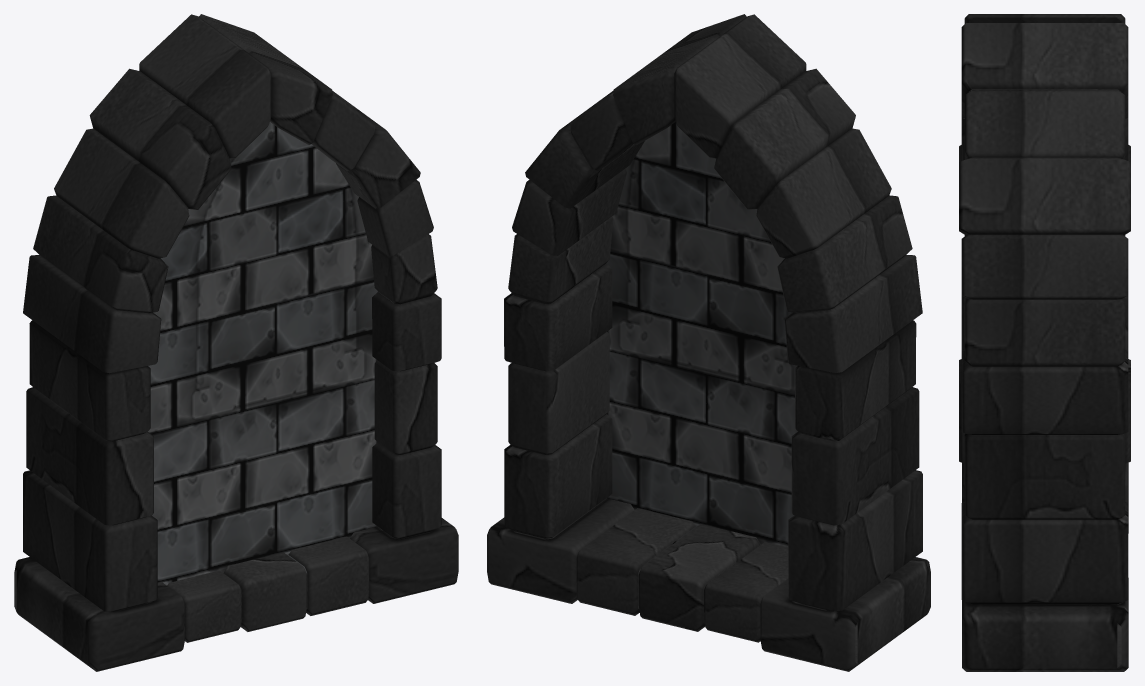
The model's file is M_Window.fbx.
3 views of the same model, side by side, from view 1: azimuth 30°, elevation 25°; view 2: azimuth 150°, elevation 25°; view 3: azimuth 270°, elevation 25° (orthographic).
Visible parts, largest first — view 1: WallWindow_Big1; view 2: WallWindow_Big1; view 3: WallWindow_Big1.
Boxes of the visible parts, x1,y1,x2,y2 form: WallWindow_Big1: [14, 14, 458, 671]; WallWindow_Big1: [487, 14, 930, 671]; WallWindow_Big1: [959, 14, 1130, 671].
Size of the model in its own units: 158 by 229 by 62.96.
